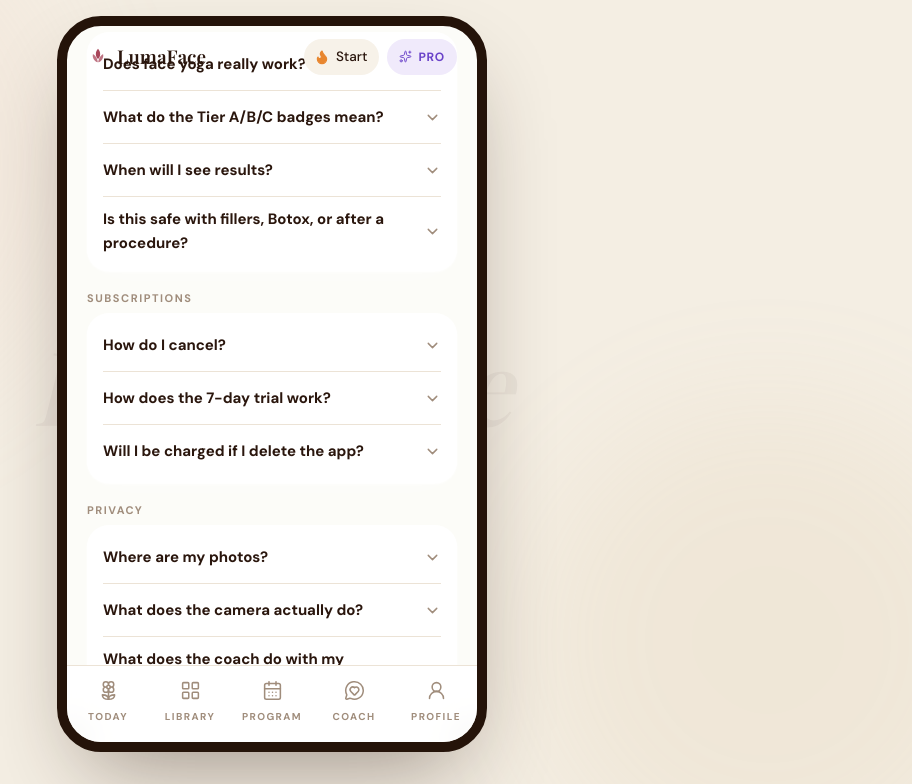
Test case: Help page › FAQ accordion opens an answer
(page scrolled)
Click the button "How do I cancel?".
click(164, 345)  # box x1=103 y1=319 x2=441 y2=371
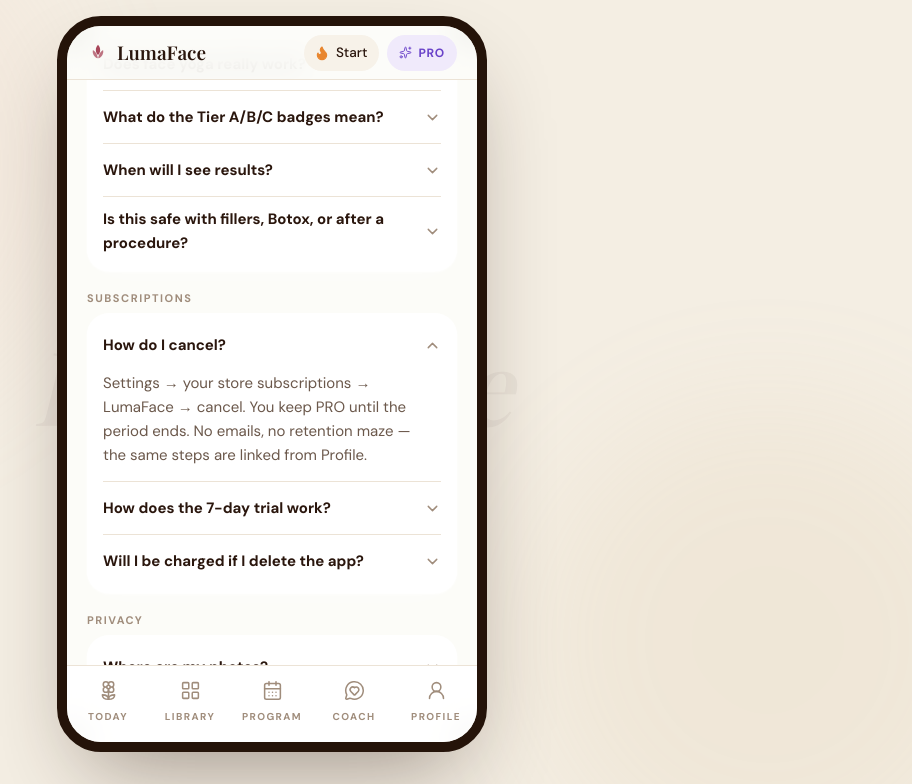
Result: the text "You keep PRO until the period ends" is shown at x1=103 y1=373 x2=411 y2=465
